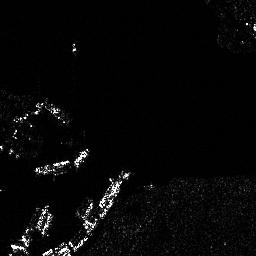ship: (34, 160, 71, 176), (99, 179, 119, 208), (74, 149, 89, 168)
